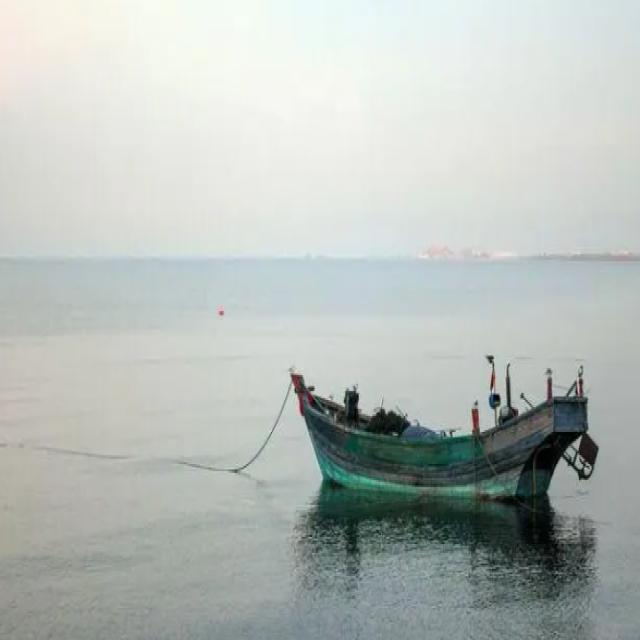fishing boat: (288, 342, 603, 506)
